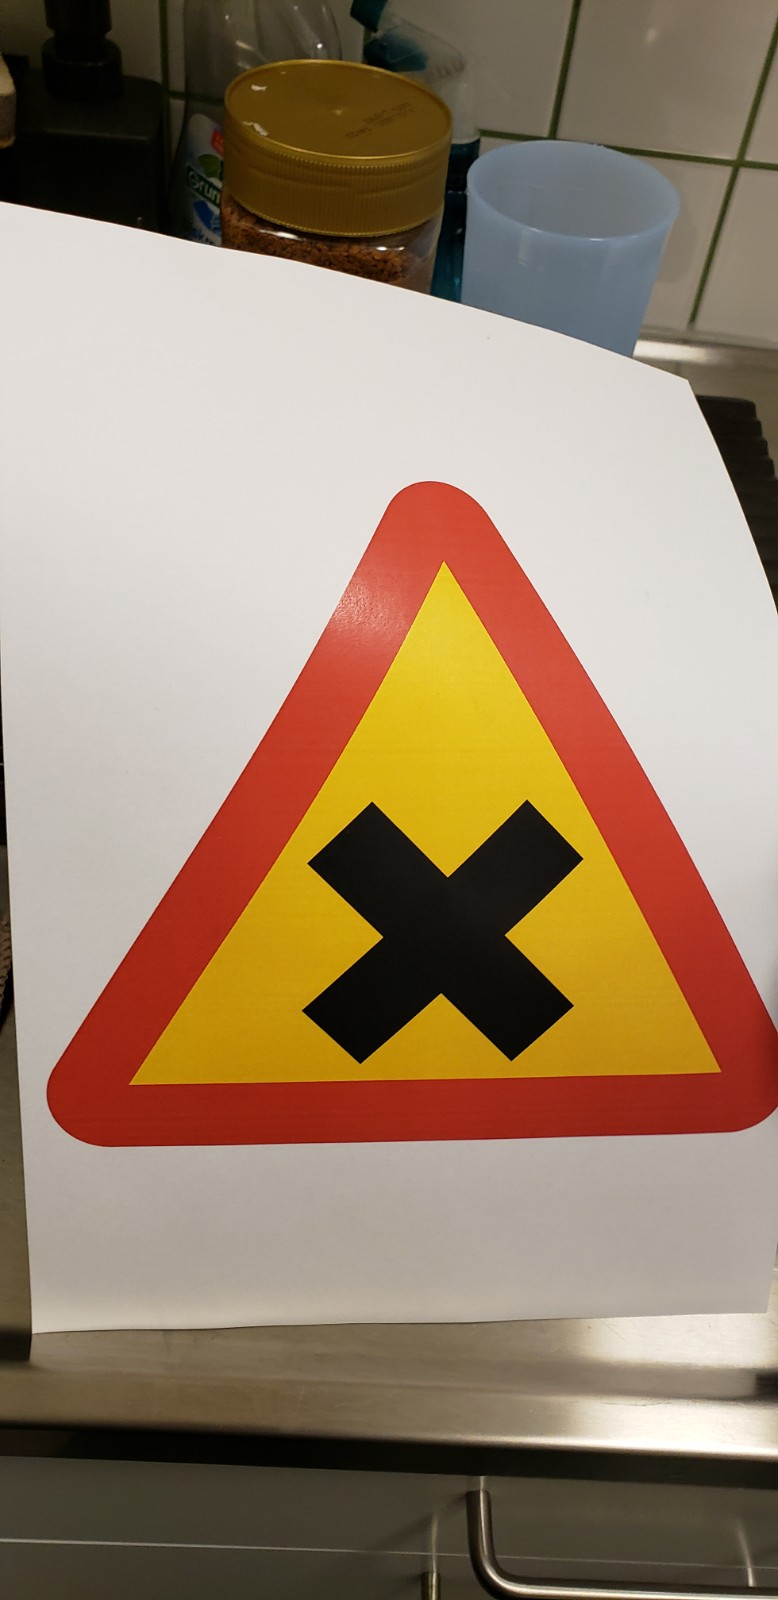junction: (3, 415, 778, 1148)
